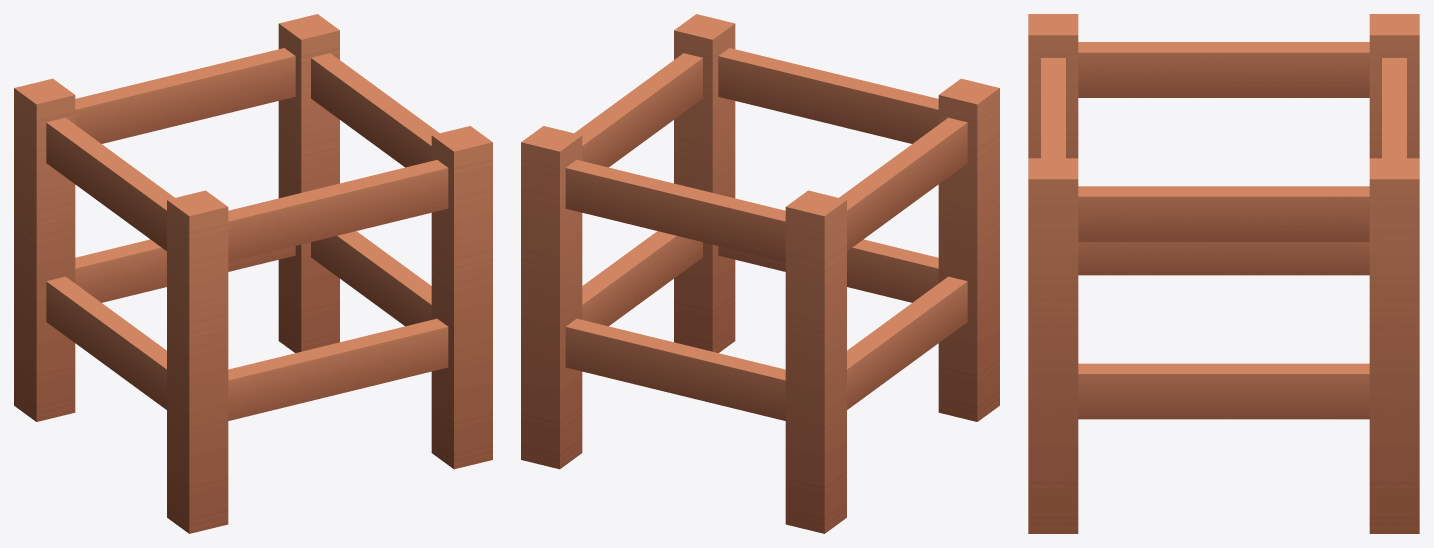
The model's file is tower-defense-kit--wood-structure-high.glb.
3 renders of one model, left to right at view 1: azimuth 30°, elevation 25°; view 2: azimuth 150°, elevation 25°; view 3: azimuth 270°, elevation 25°, orthographic. The views are drawn at different scales.
Visible parts, largest first — view 1: wood-structure-high; view 2: wood-structure-high; view 3: wood-structure-high.
Part boxes in pixels (left/top/right/bottom): wood-structure-high: left=14, top=14, right=492, bottom=533; wood-structure-high: left=521, top=14, right=999, bottom=533; wood-structure-high: left=1028, top=14, right=1419, bottom=533.
Bounding box in the file's own units: 1 × 1 × 1.
Materials: 1 (1 with a texture image).
